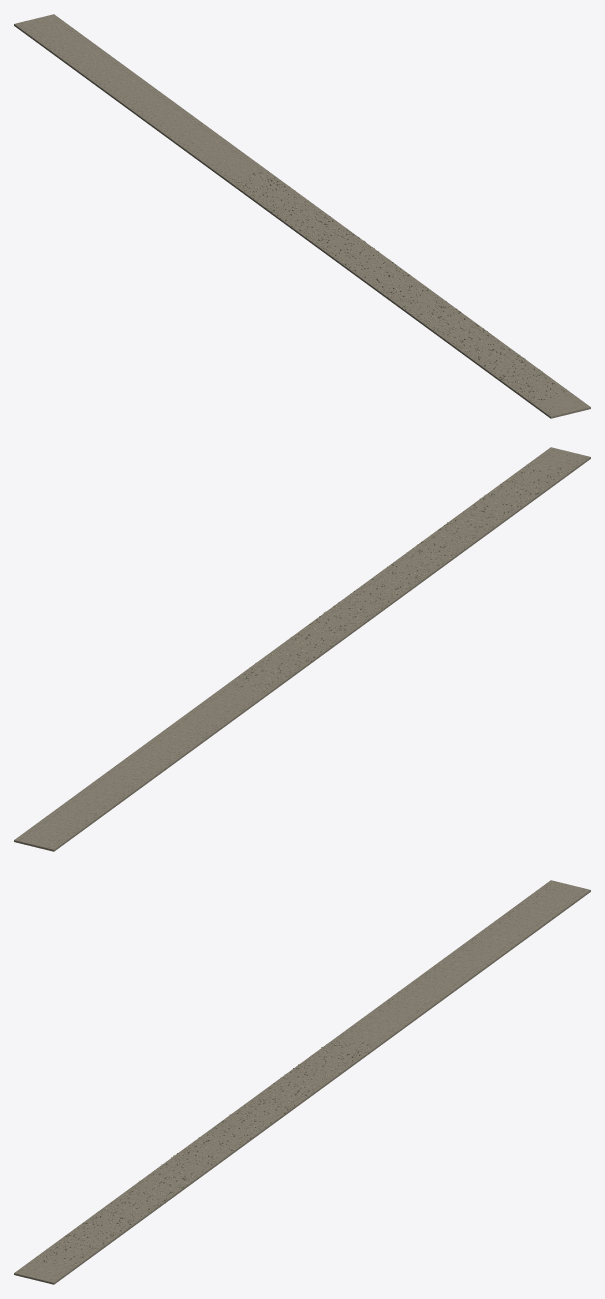
File: Track_BallastAndStones.obj
3 views of the same model, one above another, from view 1: azimuth 30°, elevation 25°; view 2: azimuth 150°, elevation 25°; view 3: azimuth 330°, elevation 25° (orthographic).
Visible parts, largest first — view 1: Track_BallastAndStones; view 2: Track_BallastAndStones; view 3: Track_BallastAndStones.
Boxes of the visible parts, x1,y1,x2,y2 form: Track_BallastAndStones: (14,14,590,418); Track_BallastAndStones: (14,447,590,851); Track_BallastAndStones: (14,880,590,1284).
Bounding box in the file's own units: 2.55 × 0.1588 × 58.
1 material, 1 textured.
